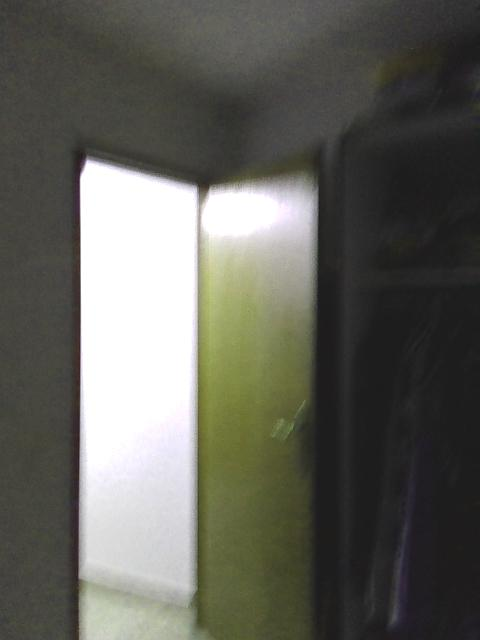open_door: (67, 130, 221, 638)
